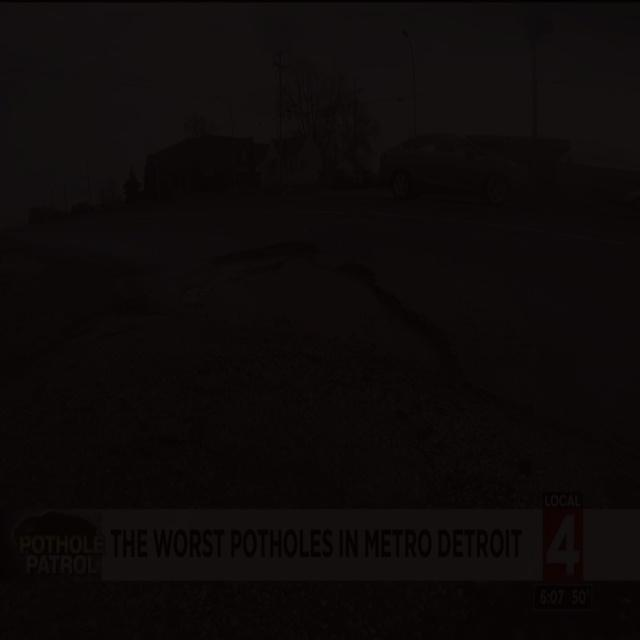Pothole: (162, 232, 462, 388)
